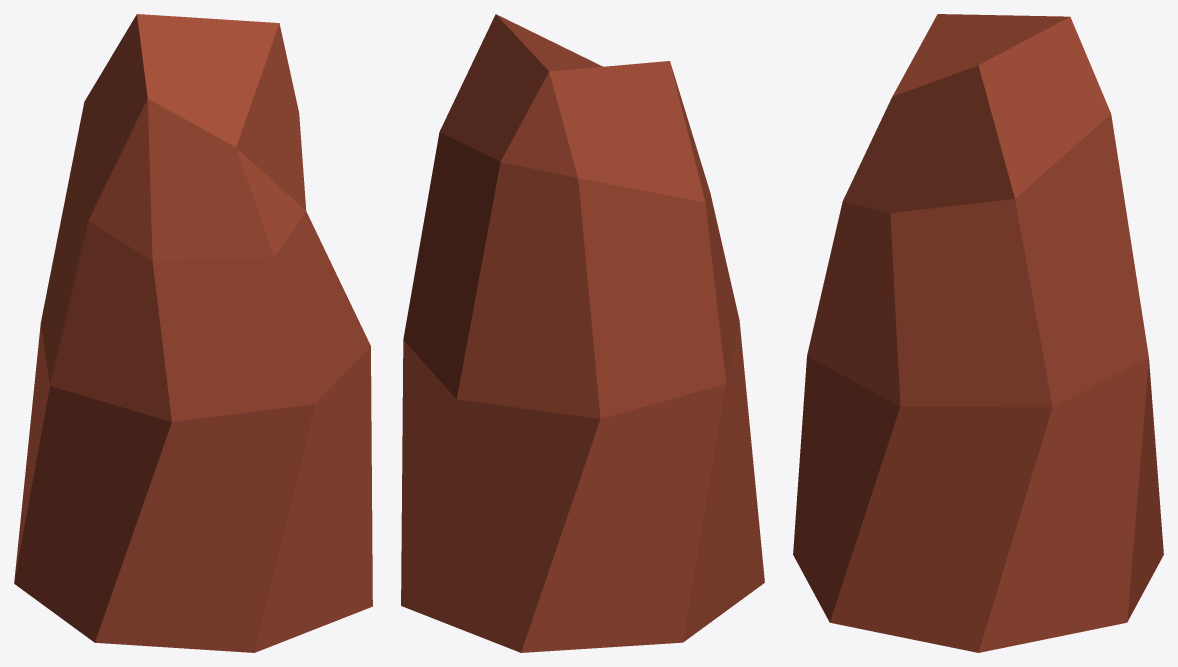
Rendered from SandWall001.fbx.
3 views of the same model, side by side, from view 1: azimuth 30°, elevation 25°; view 2: azimuth 150°, elevation 25°; view 3: azimuth 270°, elevation 25° (orthographic). The views are drawn at different scales.
Visible parts, largest first — view 1: Cylinder002; view 2: Cylinder002; view 3: Cylinder002.
Boxes of the visible parts, x1,y1,x2,y2 form: Cylinder002: [14, 14, 372, 652]; Cylinder002: [401, 14, 764, 652]; Cylinder002: [793, 14, 1163, 652].
Size of the model in its own units: 104 by 171 by 105.
